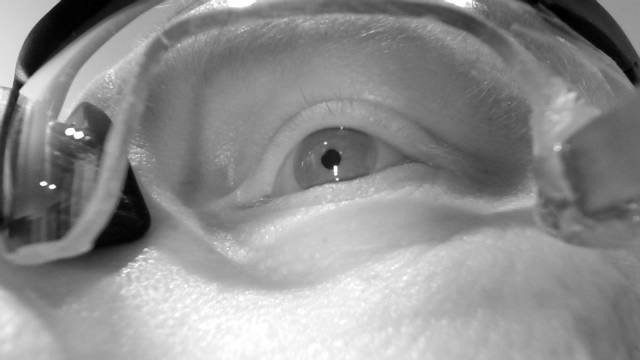pupil: (320, 148, 342, 170)
